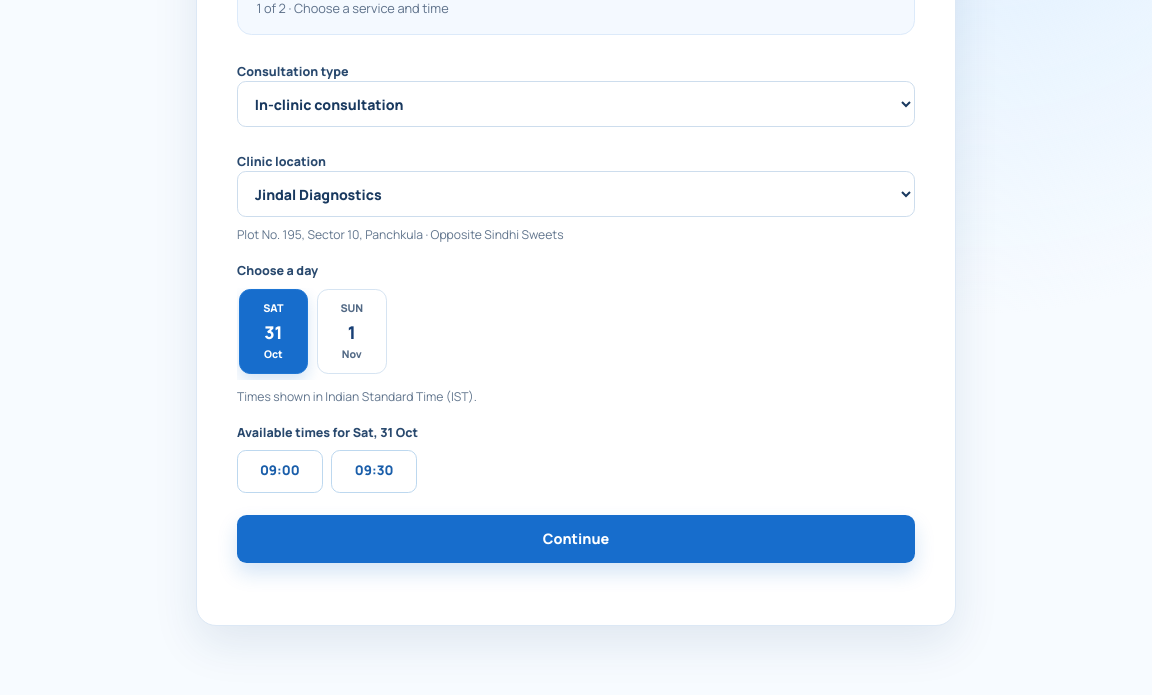
Test case: a guest with neither phone nor email is stopped before the callable
(page scrolled)
Click the button "09:00". click: (280, 471)
box: left=237, top=450, right=323, bottom=493
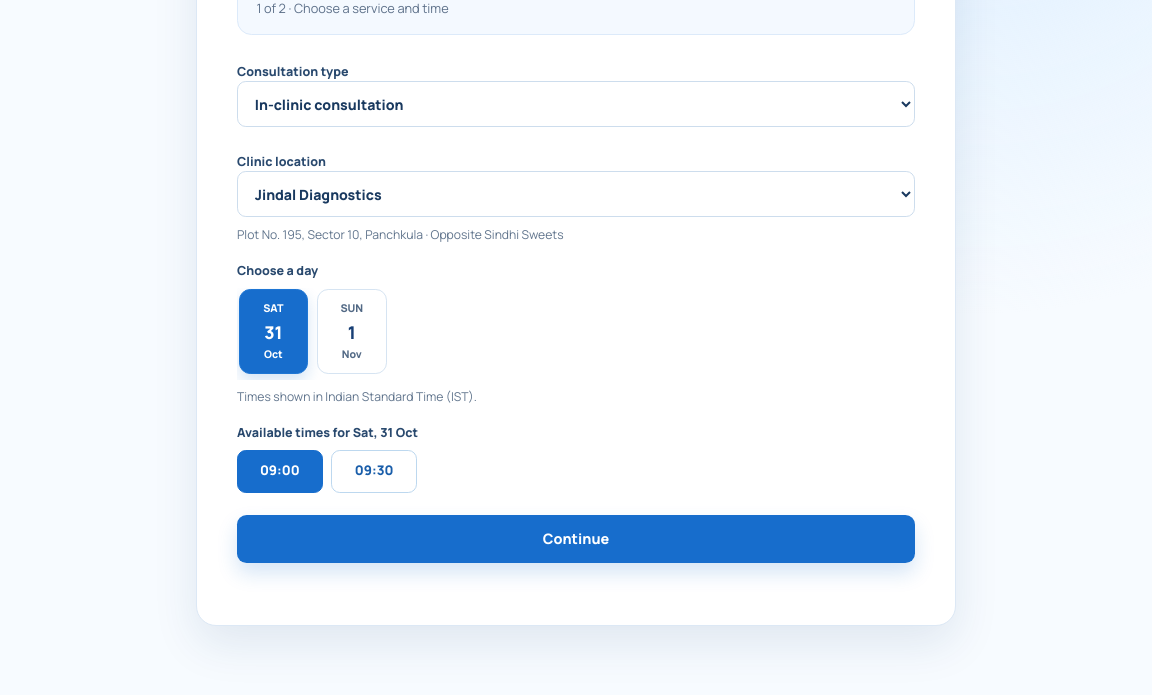
Click the button "Continue". click: (576, 539)
box: left=237, top=515, right=915, bottom=563
(page scrolled)
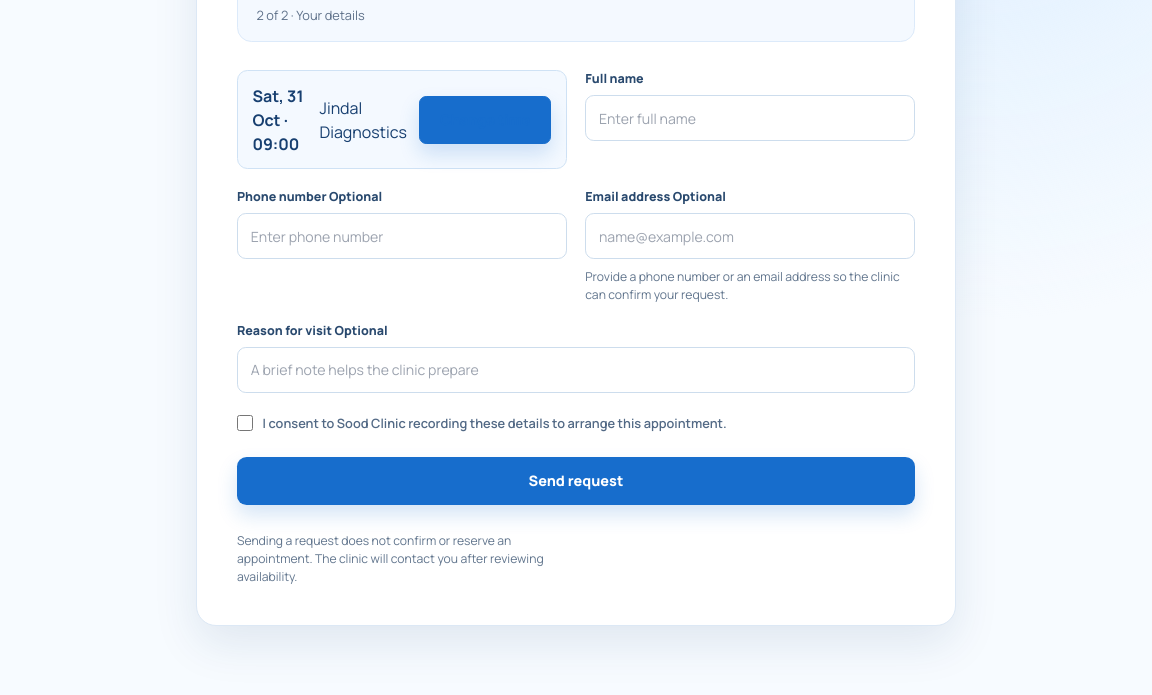
Type "Synthetic Patient" into the field labelled "Full name". click: (750, 118)
box: left=585, top=95, right=915, bottom=141
Type "+919000000001" into the field labelled "Phone number Optional". click: (402, 236)
box: left=237, top=213, right=567, bottom=259
Type "Synthetic reason" into the field labelled "Reason for visit Optional". click: (576, 370)
box: left=237, top=347, right=915, bottom=393
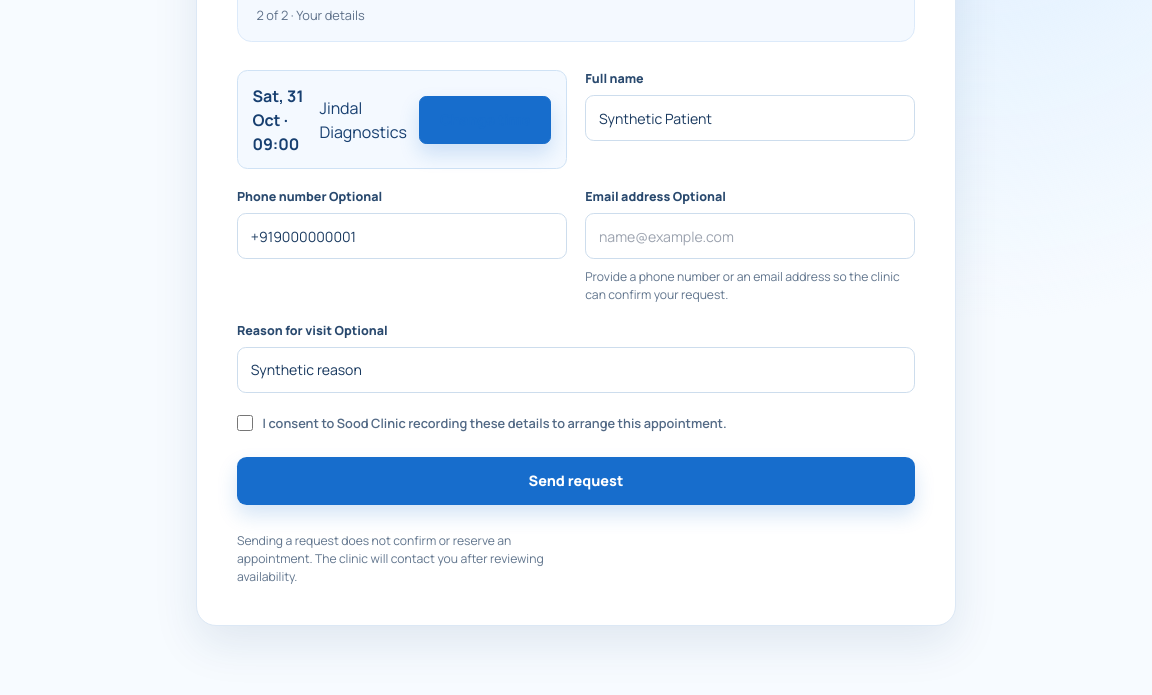
Click the checkbox. click: (245, 423)
box: left=237, top=415, right=253, bottom=431
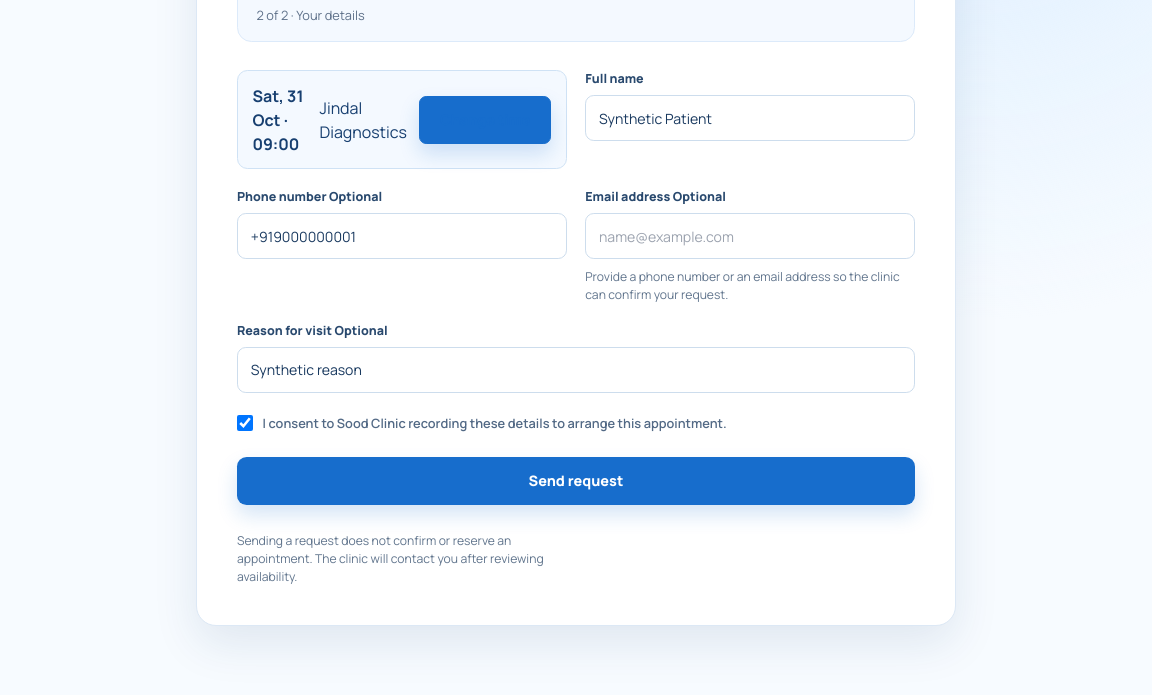
Clear the field labelled "Phone number Optional". click: (402, 236)
box: left=237, top=213, right=567, bottom=259
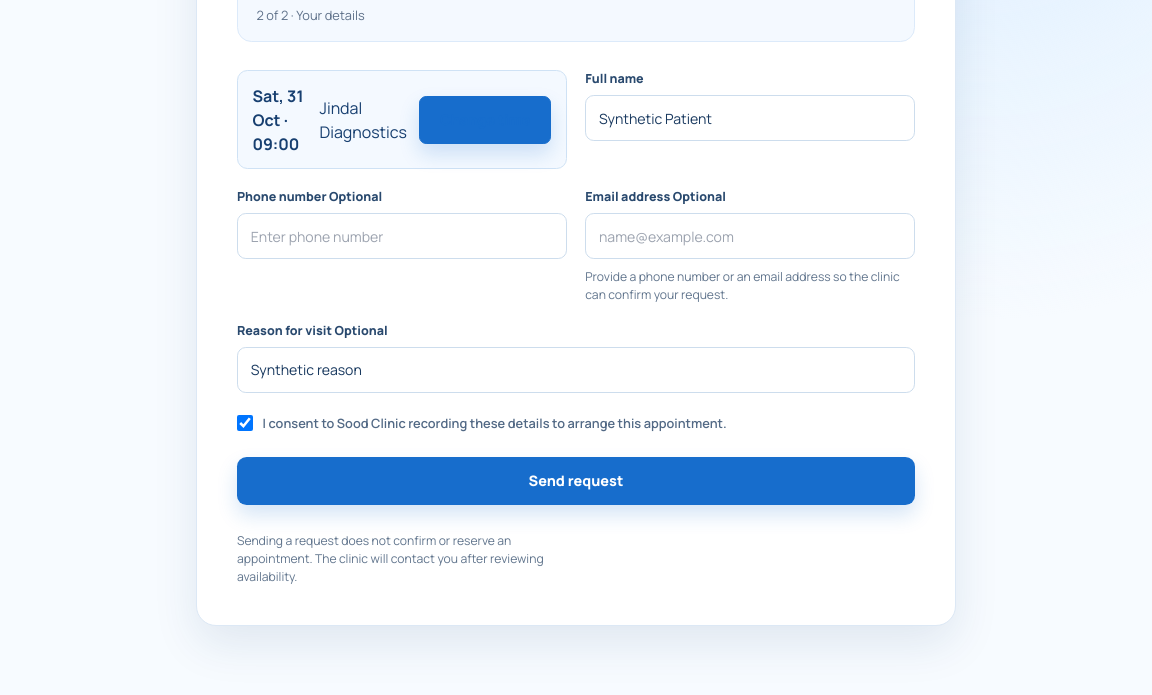
Click the button "Send request". click: (576, 481)
box: left=237, top=457, right=915, bottom=505
(page scrolled)
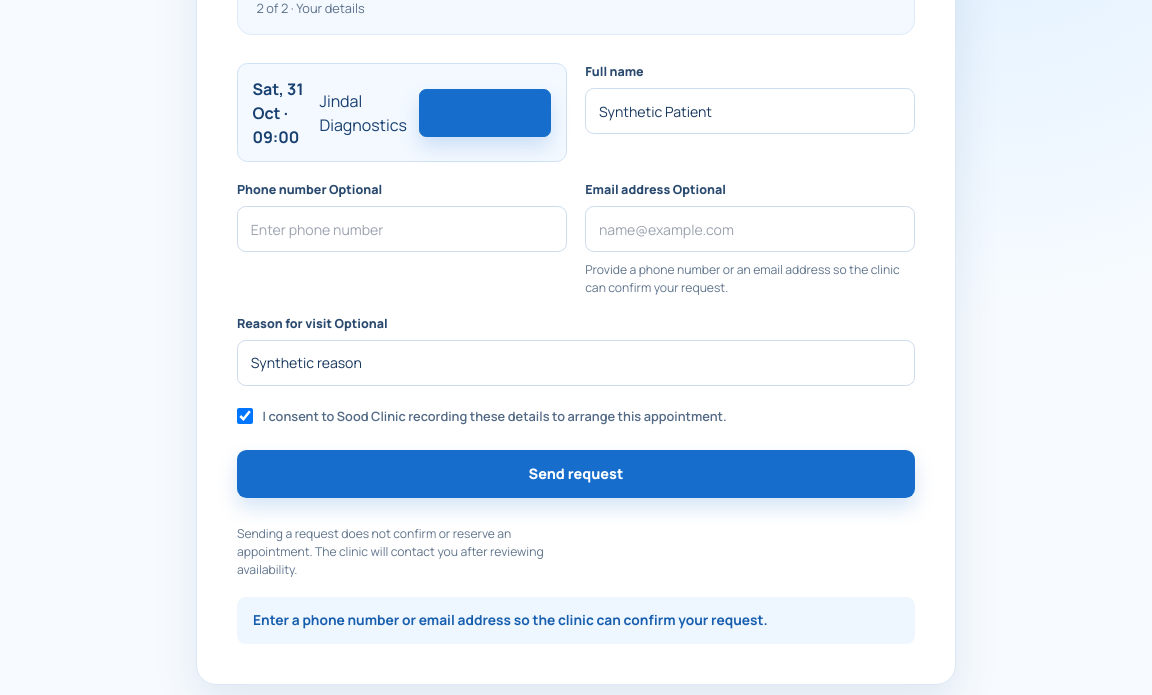
Expected: the text "Enter a phone number or email address so the clinic can confirm your request." is shown, left=237, top=597, right=915, bottom=644
